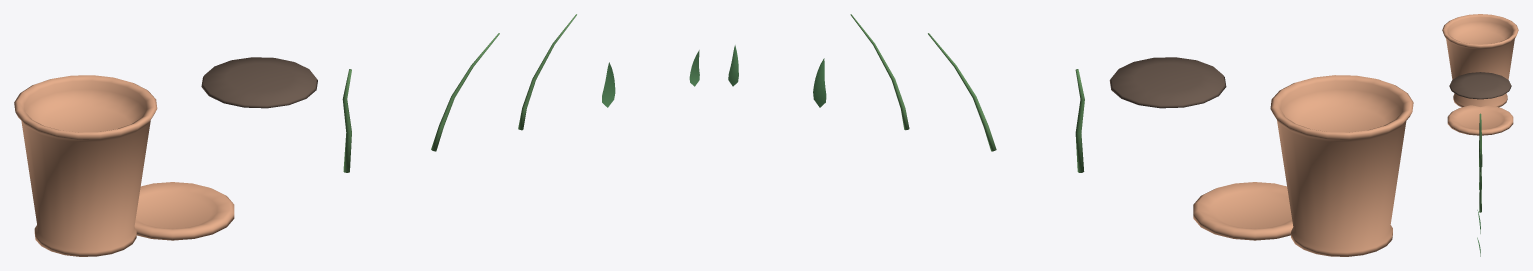
The model's file is floor-palm-components.glb.
The picture shows the model from 3 angles, left to right: view 1: azimuth 30°, elevation 25°; view 2: azimuth 150°, elevation 25°; view 3: azimuth 270°, elevation 25°; orthographic projection. The views are drawn at different scales.
Parts seen in each view (by area): view 1: Pot, Saucer, Soil, Cane, RachisA, RachisB, PinnaA; view 2: Pot, Saucer, Soil, Cane, RachisA, RachisB, PinnaA; view 3: Pot, Saucer, Soil, Cane, RachisB, RachisA.
Part boxes in pixels (x1,y1,x2,y2): Pot: (14,75,157,256); Saucer: (134,182,234,240); Soil: (201,57,317,108); Cane: (342,69,351,172); RachisA: (431,33,499,151); RachisB: (518,14,576,130); PinnaA: (602,62,615,107); Pot: (1270,75,1413,256); Saucer: (1193,182,1293,240); Soil: (1109,57,1226,108); Cane: (1075,69,1084,172); RachisA: (928,33,996,151); RachisB: (850,14,909,130); PinnaA: (813,58,826,107); Pot: (1442,14,1518,107); Saucer: (1447,105,1513,135); Soil: (1449,72,1511,99); Cane: (1479,113,1482,167); RachisB: (1479,172,1481,212); RachisA: (1479,152,1481,189).
Bounding box in the file's own units: 6.99 × 1.31 × 1.29.
